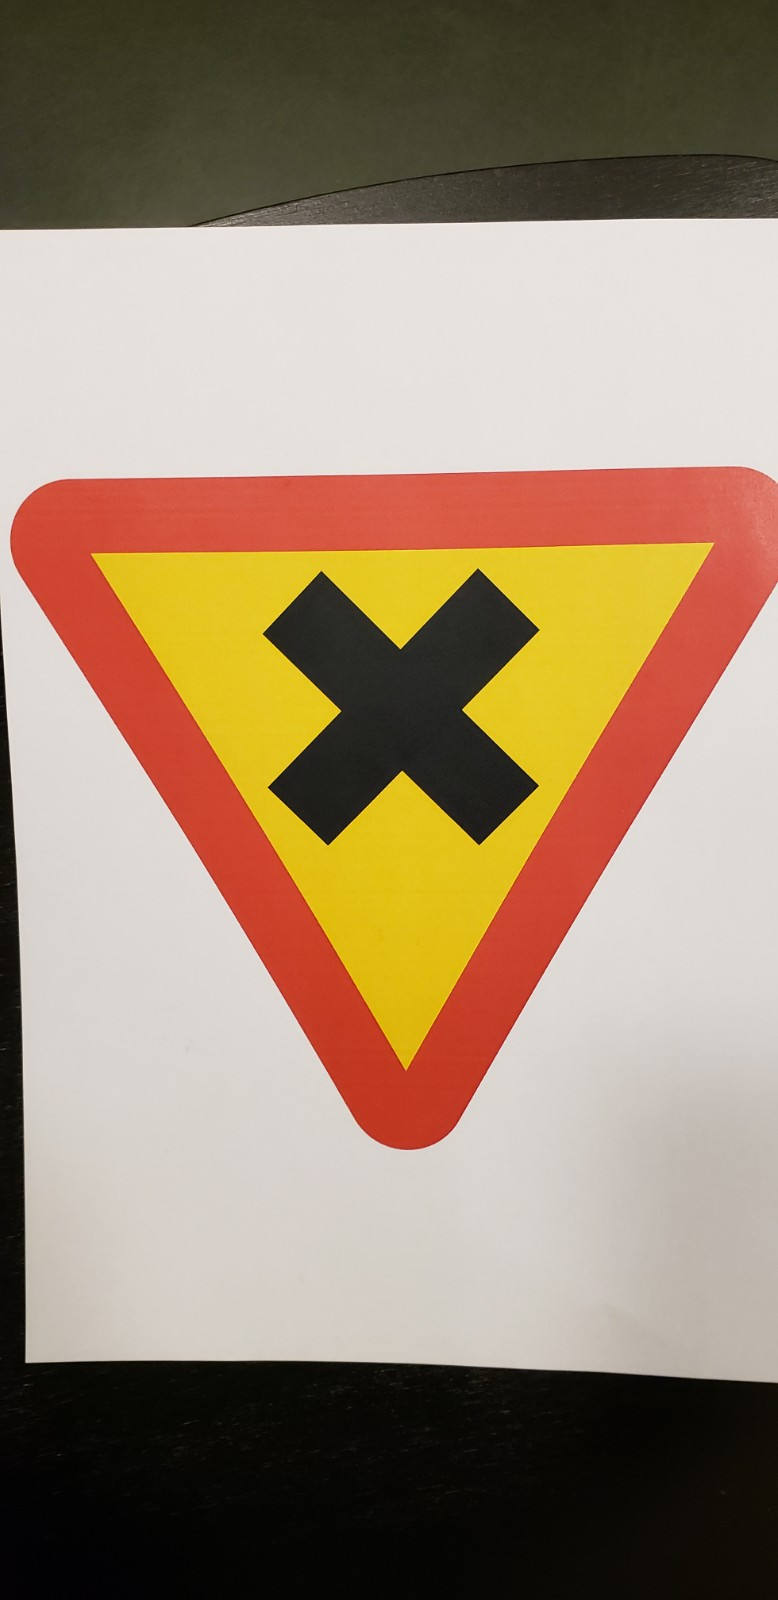junction: (1, 453, 778, 1248)
